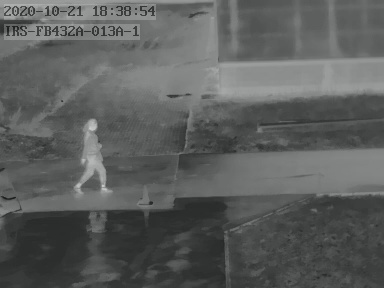person: (73, 118, 113, 193)
